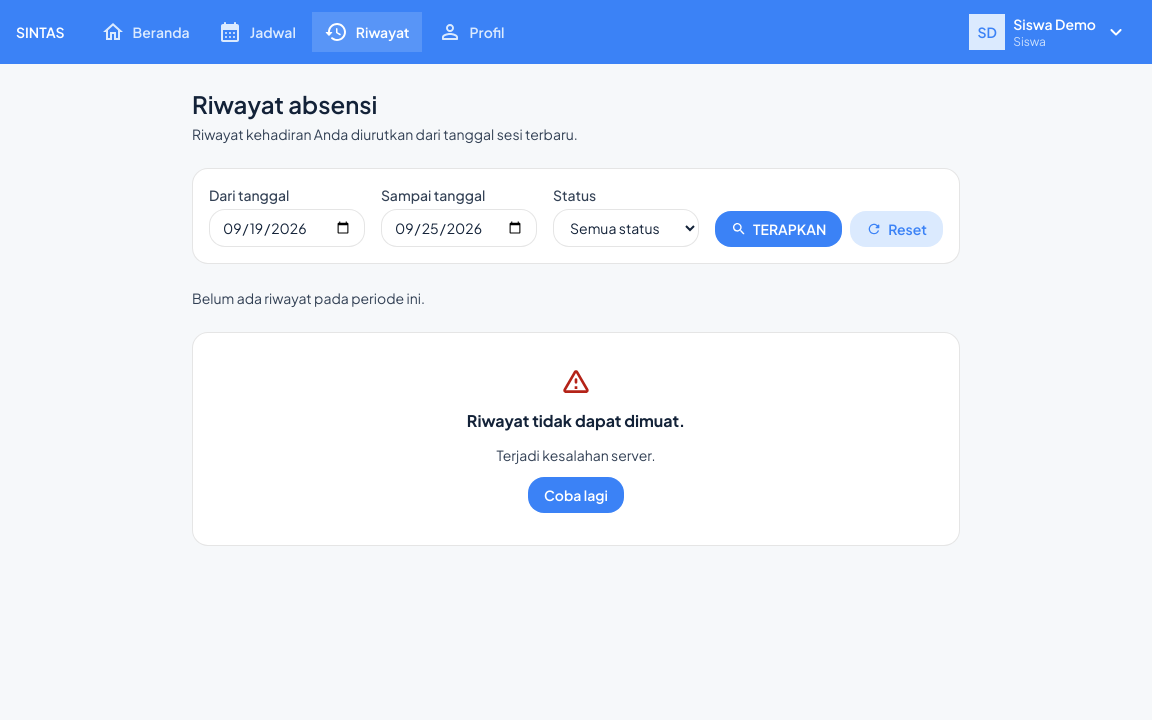
Scenario: halaman riwayat siswa › menampilkan error riwayat dan bisa dimuat ulang
Check: the heading "Riwayat tidak dapat dimuat." is shown, box [467,409,685,433]
Click the button "Coba lagi".
click(576, 495)  # box [528,477,624,513]
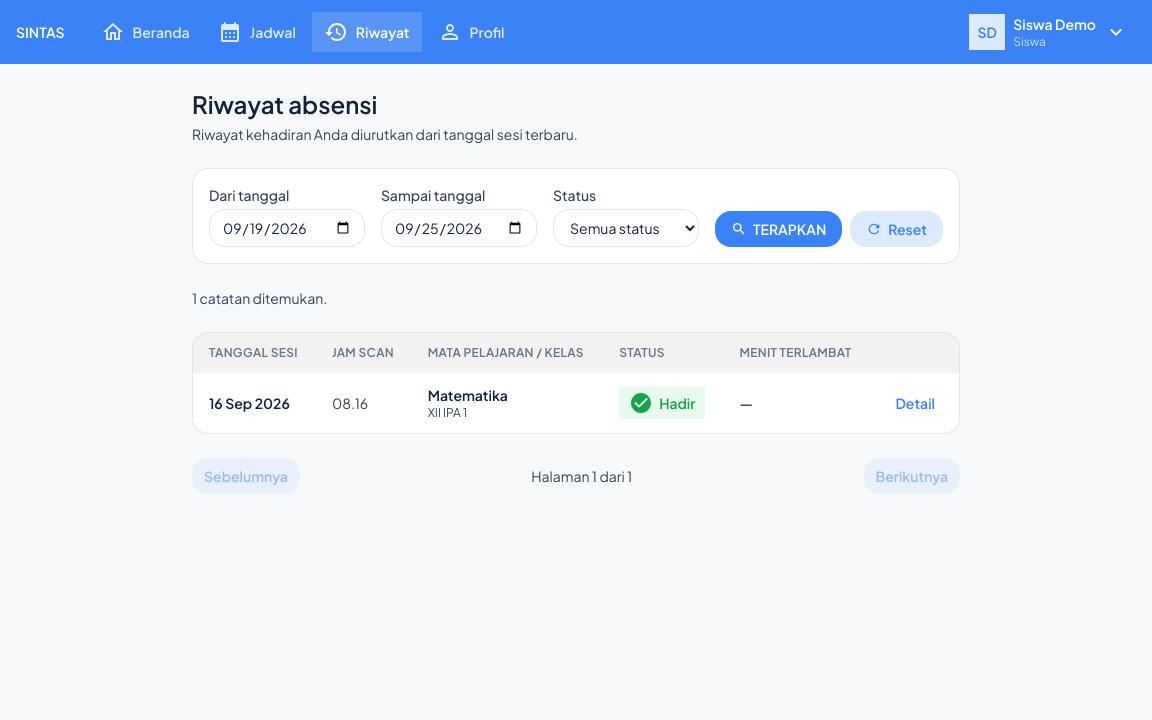
Check: the text "1 catatan ditemukan." is shown, box [192,289,327,307]
